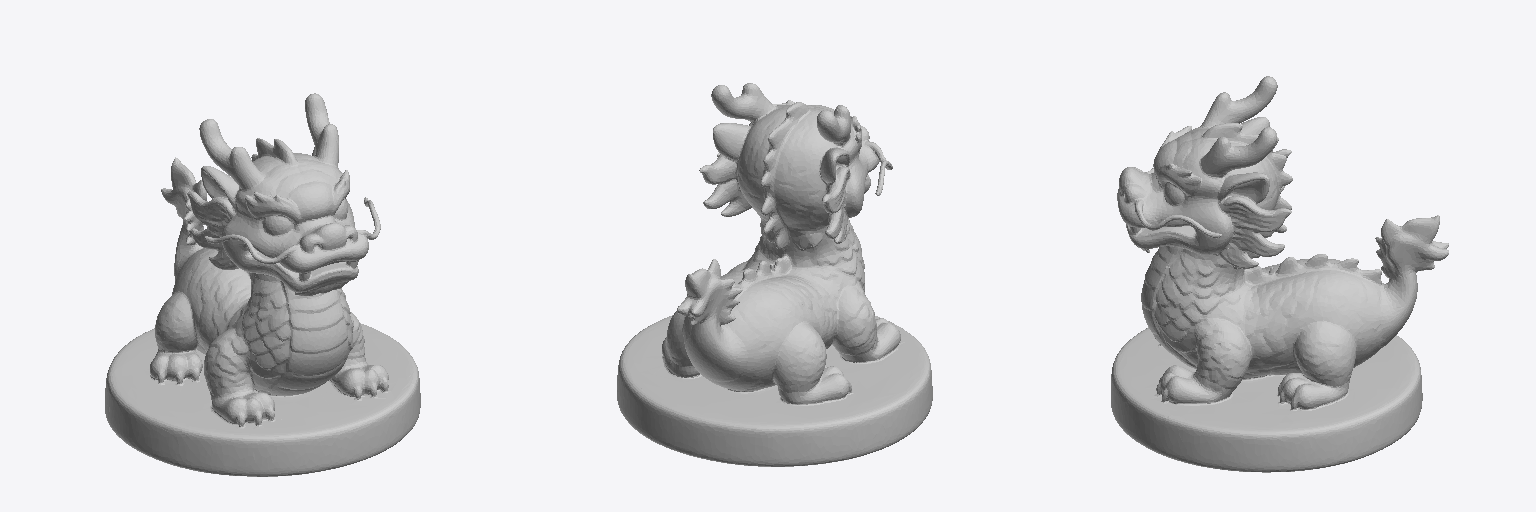
The model's file is cmix1gn2v001ui0nma16w0wfi.obj.
The picture shows the model from 3 angles: view 1: azimuth 30°, elevation 25°; view 2: azimuth 150°, elevation 25°; view 3: azimuth 270°, elevation 25°; orthographic projection.
Visible parts, largest first — view 1: material; view 2: material; view 3: material.
Part boxes in pixels (x1,y1,x2,y2): material: (105, 93, 420, 476); material: (617, 83, 932, 466); material: (1111, 76, 1448, 472).
Size of the model in its own units: 0.8082 by 0.8627 by 0.8632.